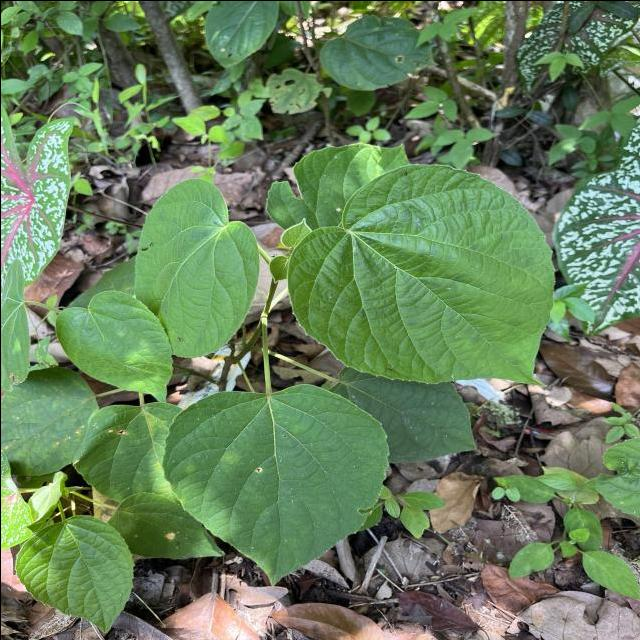Clerodendrum infortunatum: (284, 162, 558, 392), (160, 381, 393, 586), (132, 174, 262, 363), (15, 514, 134, 634), (53, 288, 174, 406)
